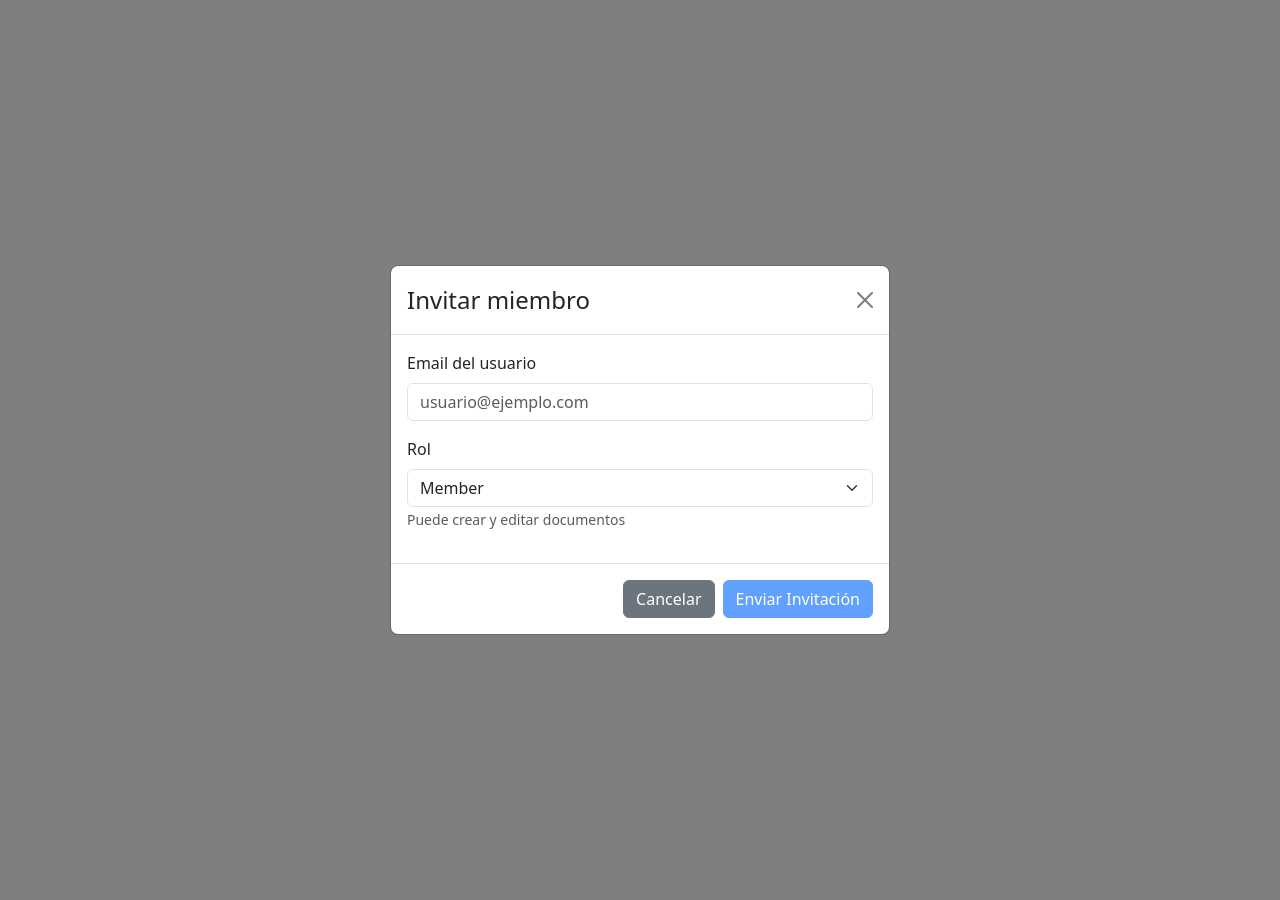
Scenario: InviteMemberModal › Búsqueda de usuarios › muestra mensaje de error cuando el usuario no existe
In the field labelled "Email del usuario": (640, 402) [407,383,873,421], type "noexiste@example.com"
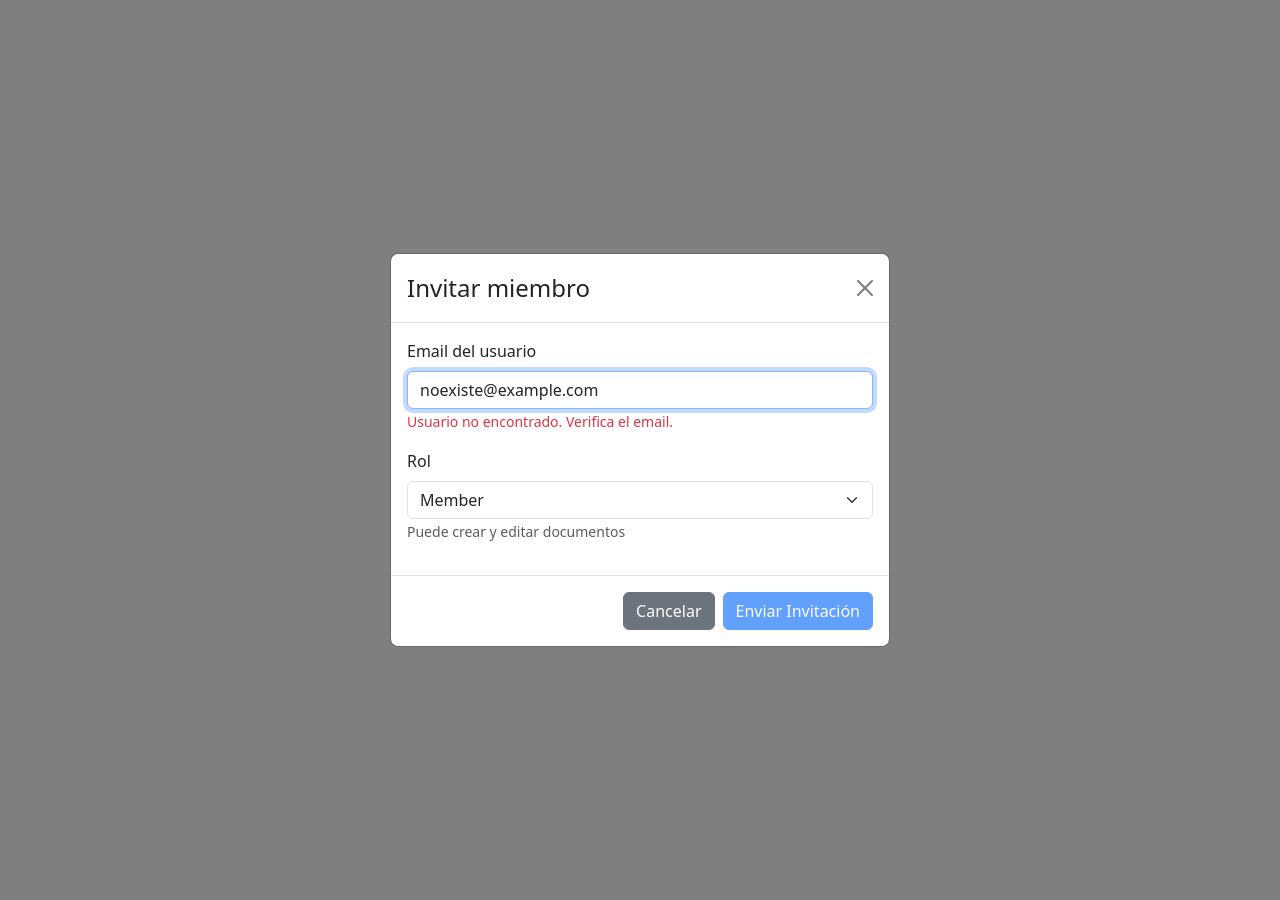
expect the text "Usuario no encontrado. Verifica el email." is shown: met, box [407,412,673,431]
